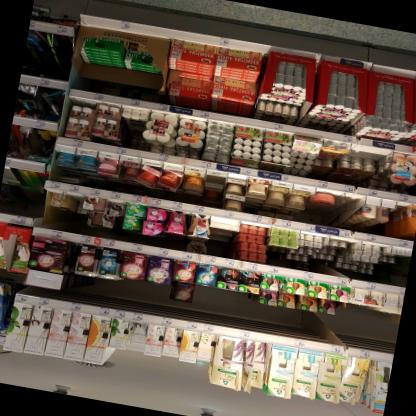empty_space: (342, 143, 389, 166), (206, 223, 236, 258), (327, 194, 357, 228), (119, 114, 146, 150), (201, 172, 225, 199), (303, 201, 328, 226)
